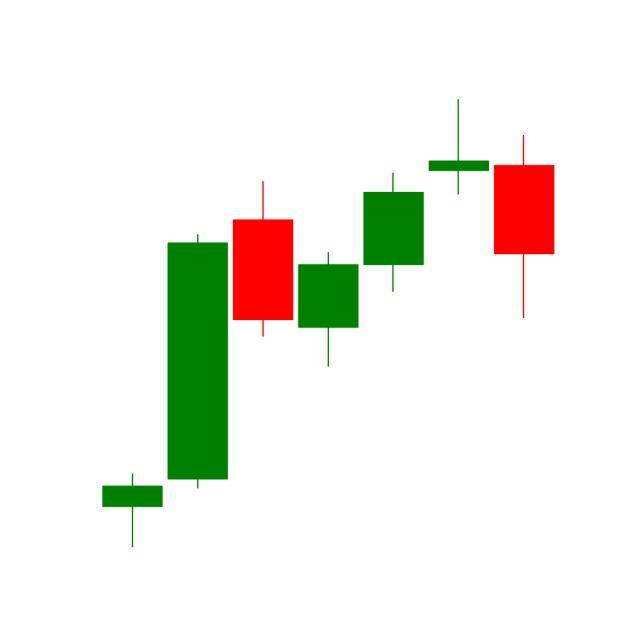Evening Star: (360, 100, 556, 324)
